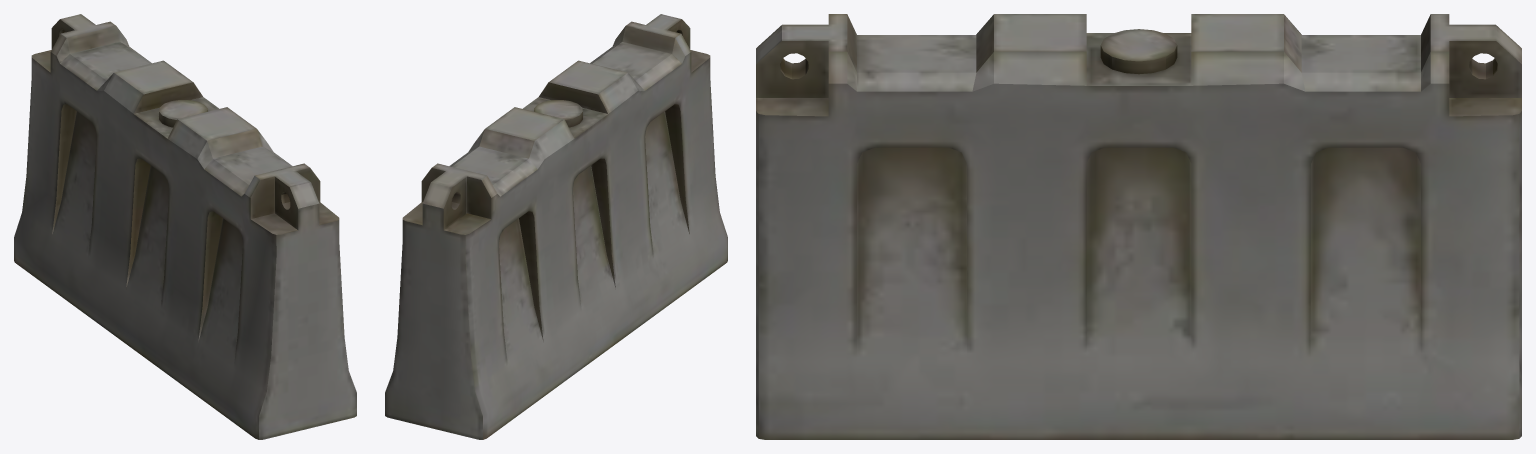
Rendered from concrete-barrier.gltf.
The picture shows the model from 3 angles, left to right: view 1: azimuth 30°, elevation 25°; view 2: azimuth 150°, elevation 25°; view 3: azimuth 270°, elevation 25°; orthographic projection. The views are drawn at different scales.
Parts seen in each view (by area): view 1: lp blok; view 2: lp blok; view 3: lp blok.
Boxes of the visible parts, x1,y1,x2,y2 form: lp blok: (14, 14, 356, 439); lp blok: (385, 14, 727, 439); lp blok: (756, 14, 1521, 439).
Bounding box in the file's own units: 0.3549 × 0.8 × 1.5.
1 material, 1 textured.
